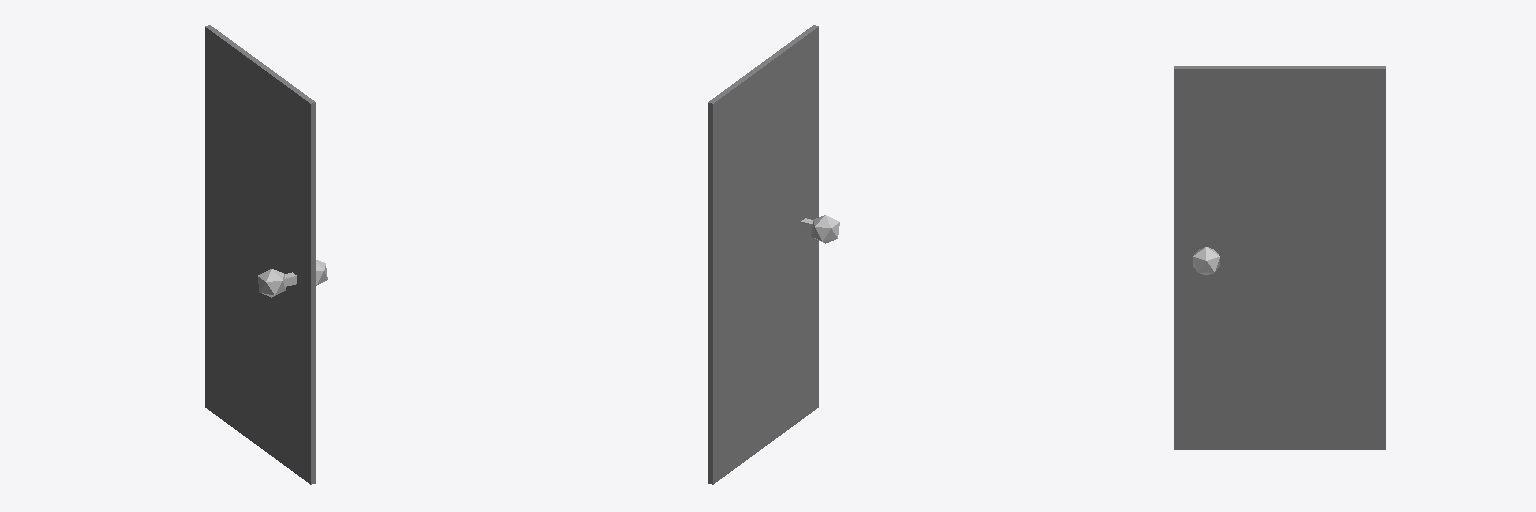
Rendered from house_door.obj.
3 views of the same model, side by side, from view 1: azimuth 30°, elevation 25°; view 2: azimuth 150°, elevation 25°; view 3: azimuth 270°, elevation 25° (orthographic).
Parts seen in each view (by area): view 1: Cube.006_Cube.019; view 2: Cube.006_Cube.019; view 3: Cube.006_Cube.019.
Part boxes in pixels (bbox=[...]): Cube.006_Cube.019: bbox=[205, 25, 327, 484]; Cube.006_Cube.019: bbox=[708, 25, 839, 484]; Cube.006_Cube.019: bbox=[1174, 66, 1385, 449].
Size of the model in its own units: 1.45 by 7.93 by 4.